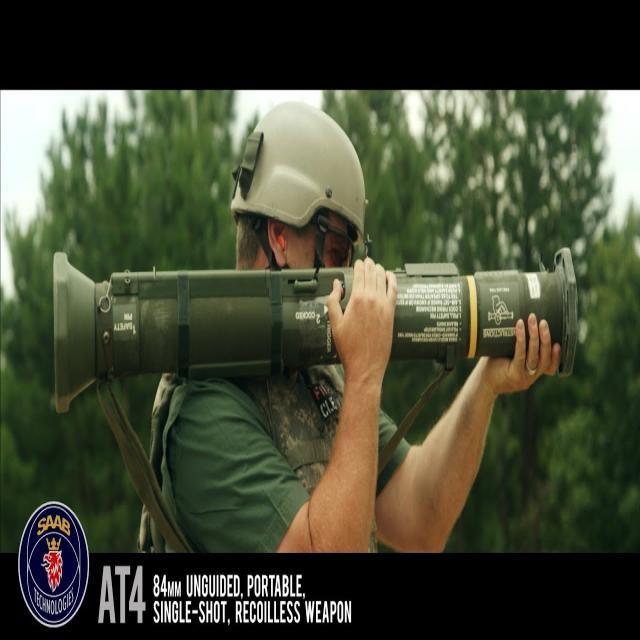bazooka: (42, 198, 592, 433)
